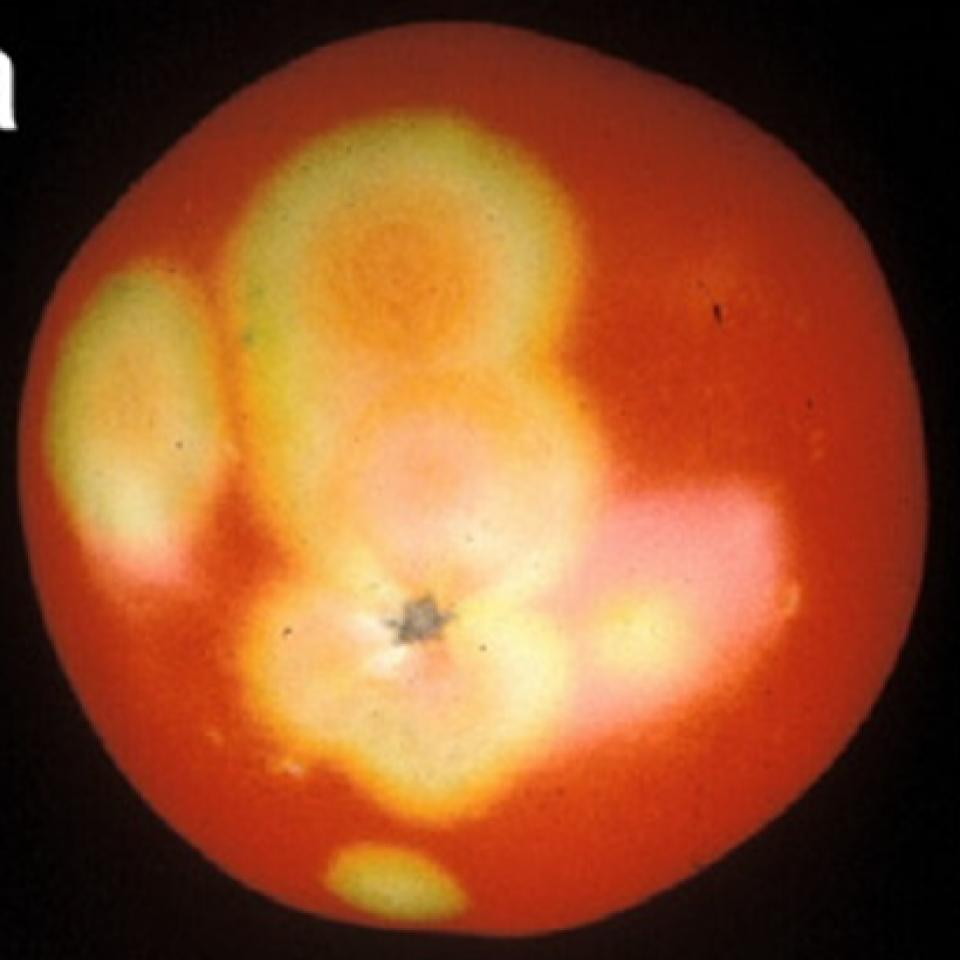Spotted wilt Virus: (21, 26, 927, 937)
